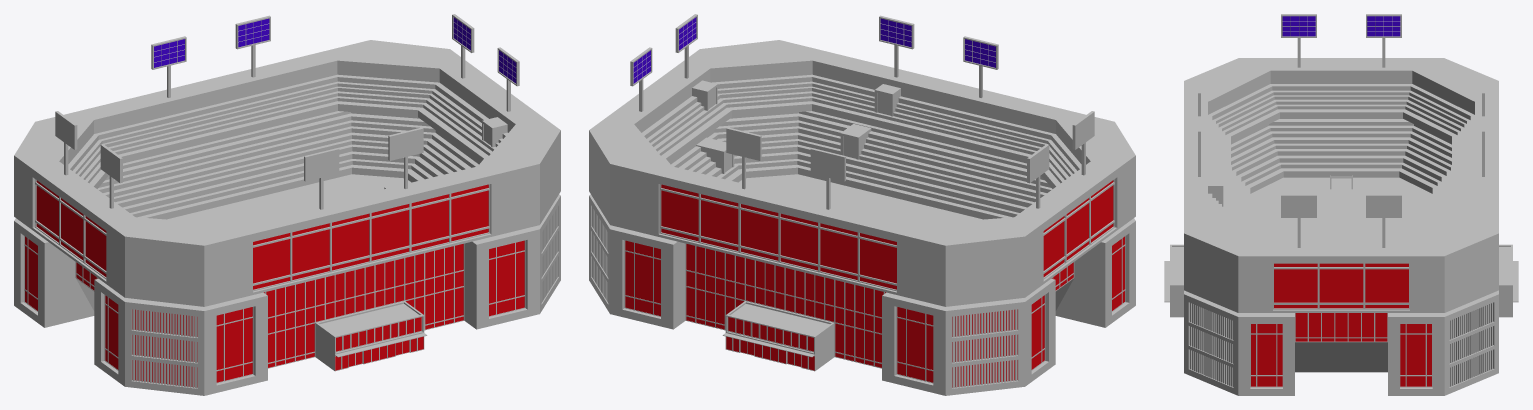
The model's file is SM_infrastructure_buildings_017.gltf.
The picture shows the model from 3 angles, left to right: view 1: azimuth 30°, elevation 25°; view 2: azimuth 150°, elevation 25°; view 3: azimuth 270°, elevation 25°; orthographic projection. The views are drawn at different scales.
Parts seen in each view (by area): view 1: infrastructure_buildings_017; view 2: infrastructure_buildings_017; view 3: infrastructure_buildings_017.
Boxes of the visible parts, x1,y1,x2,y2 form: infrastructure_buildings_017: (14, 14, 560, 395); infrastructure_buildings_017: (589, 14, 1135, 395); infrastructure_buildings_017: (1164, 14, 1518, 395).
Size of the model in its own units: 82 by 37.12 by 62.
